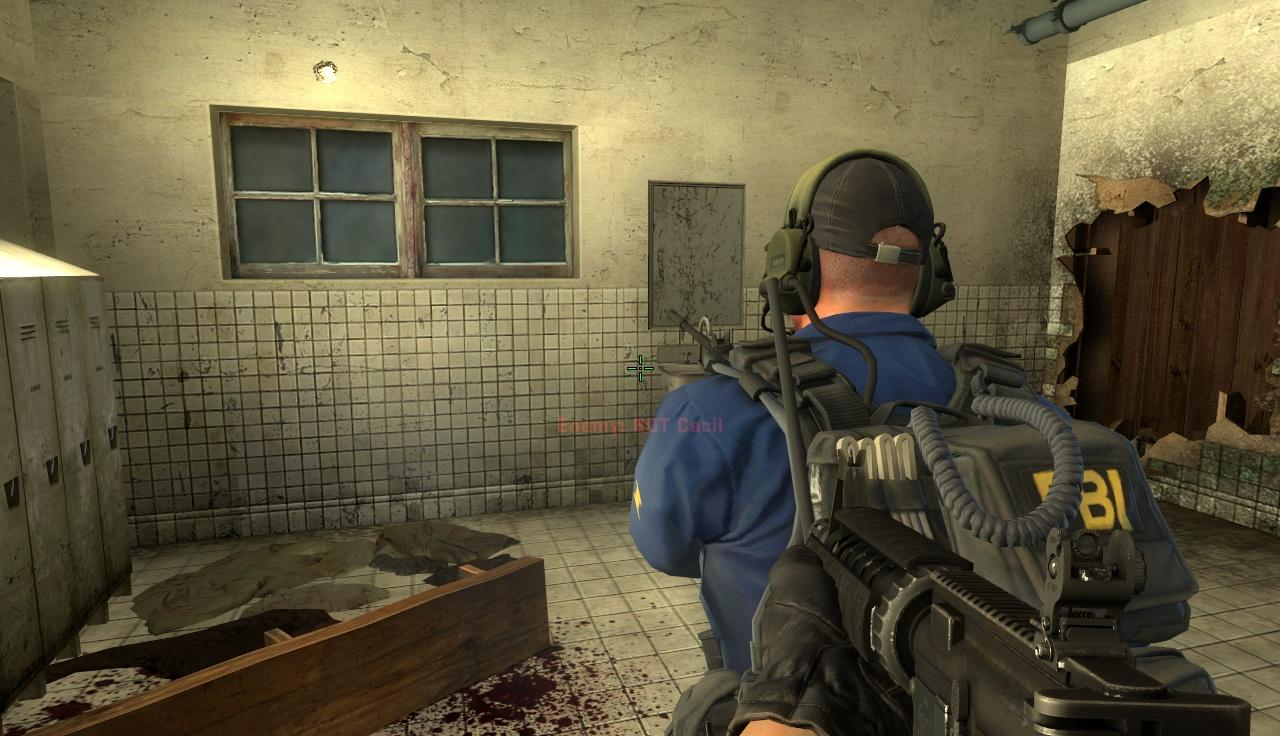ct: (637, 152, 1140, 501)
cthead: (754, 151, 955, 322)
rifle: (782, 503, 1280, 736)
